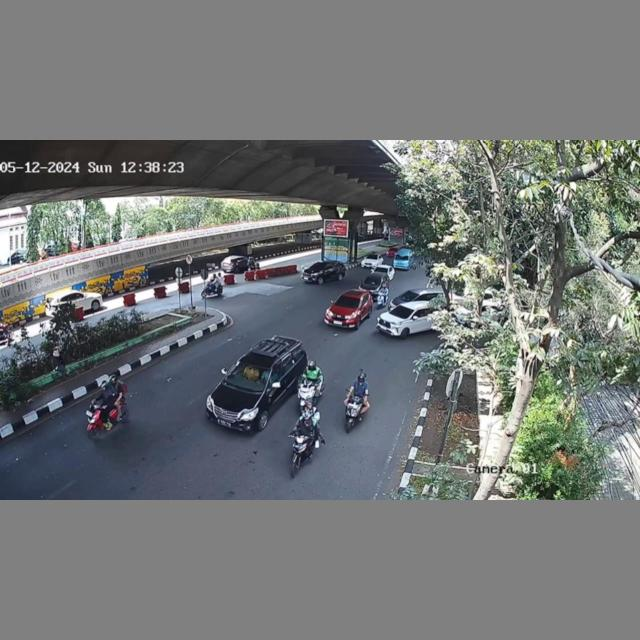windshield: (225, 361, 272, 387), (332, 293, 362, 309)
